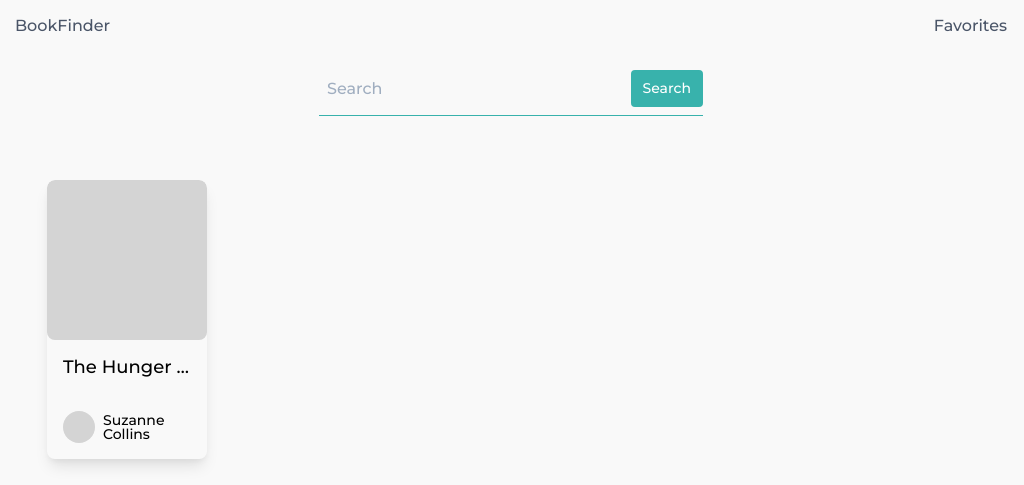
Test: Book finder › Goes to favorites pages
Click the link with test id "favorites" at (970, 26), box [934,16,1007,35]
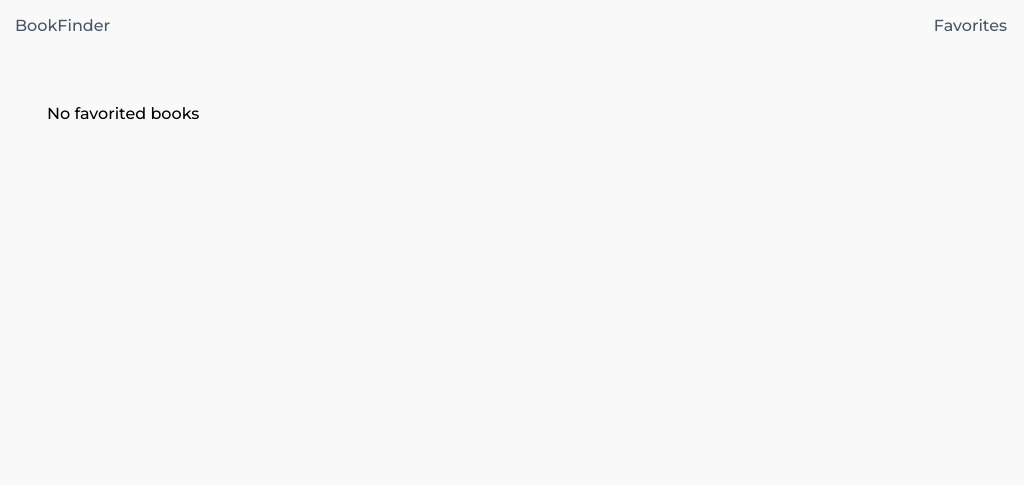
Now the text "No favorited books" is shown, box [47,104,199,123]
